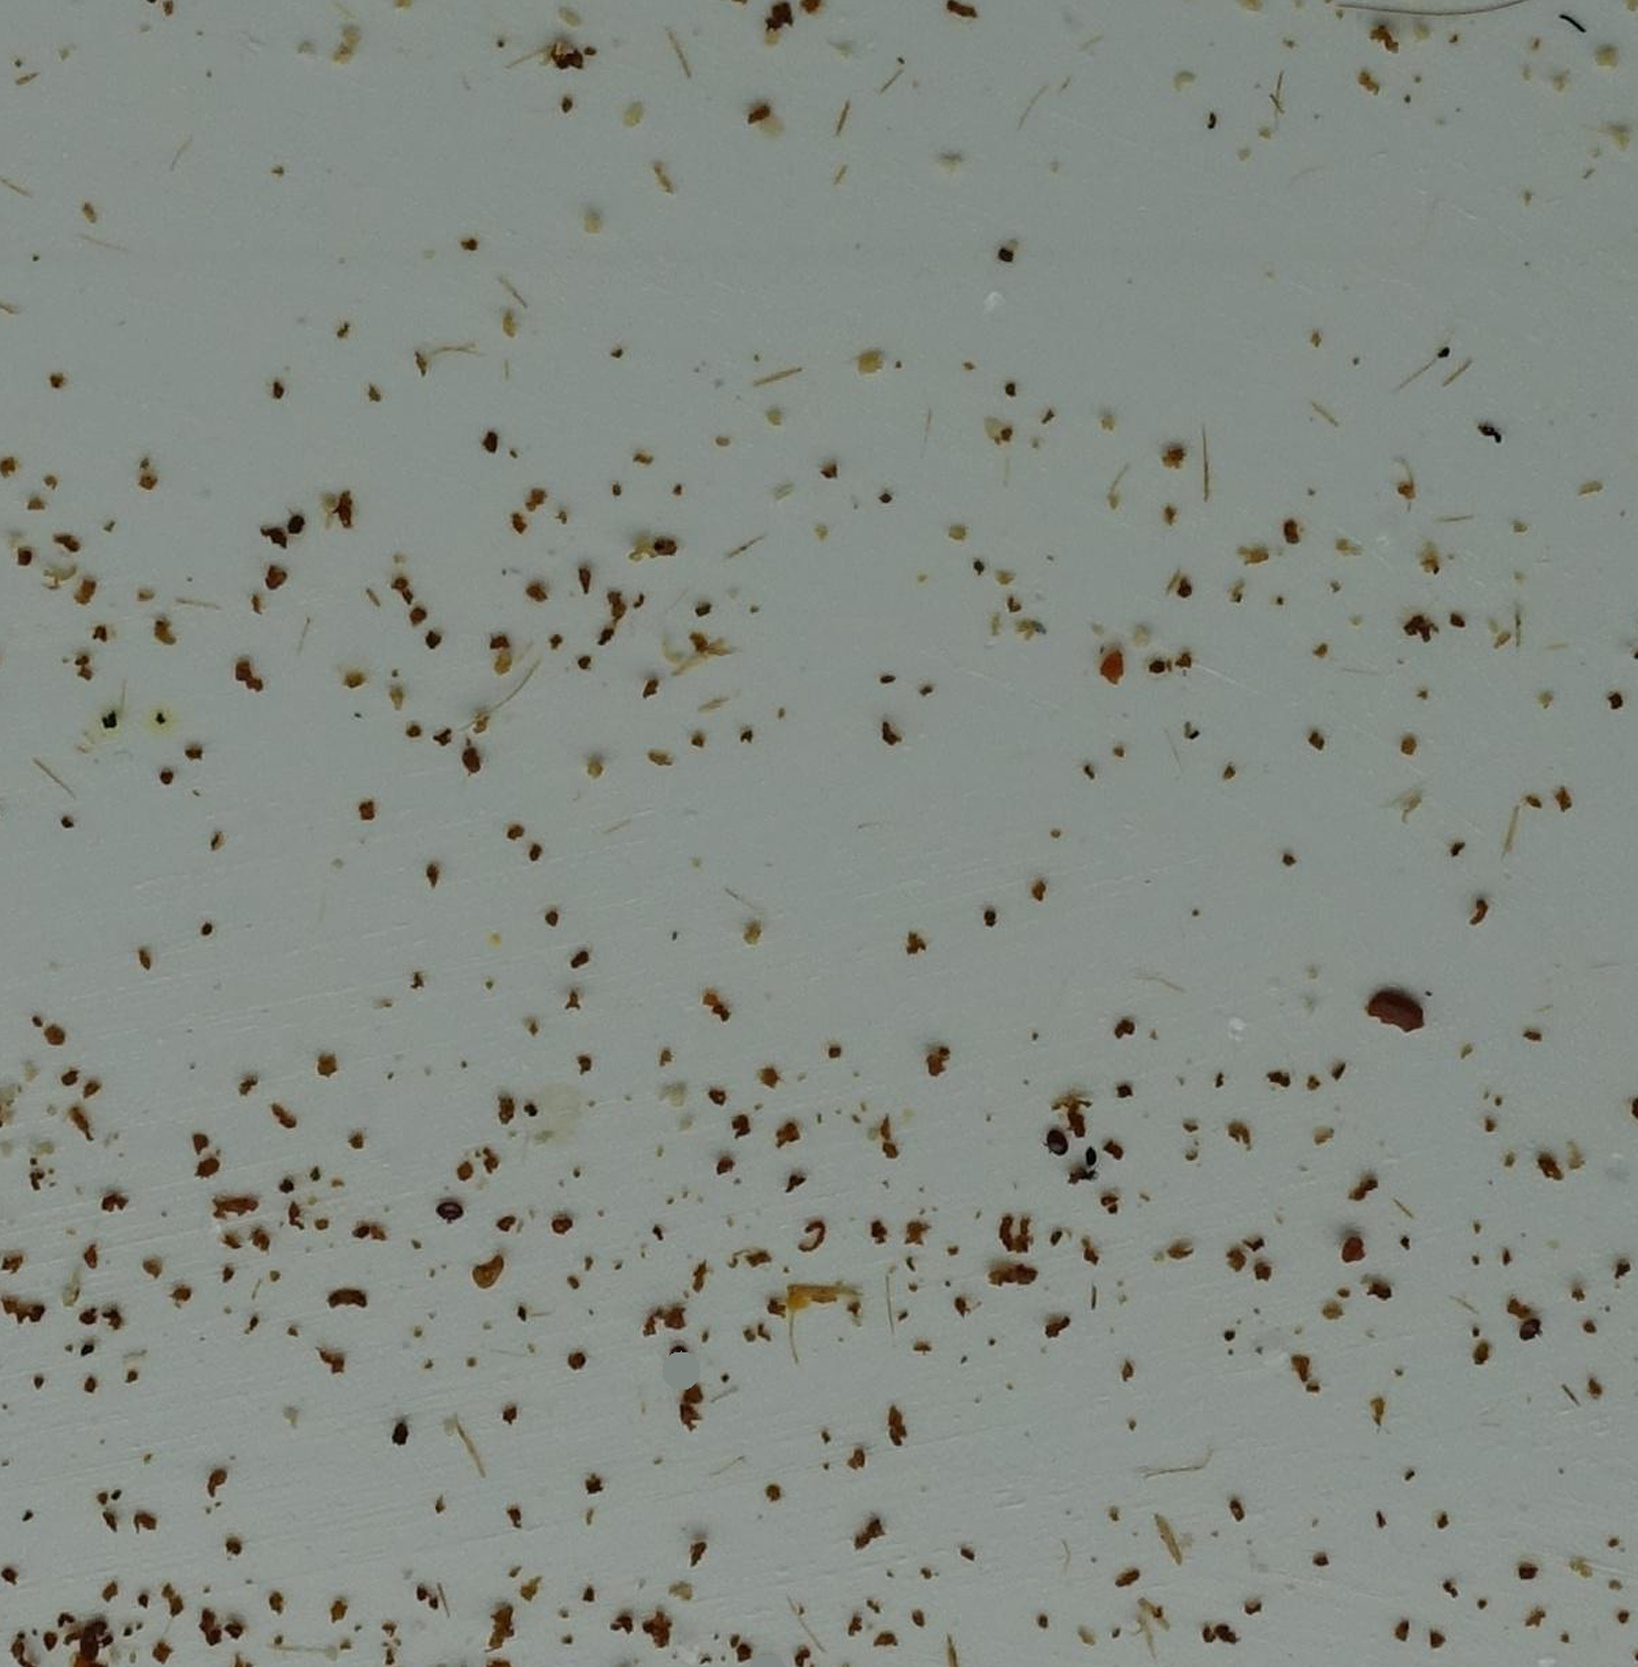Varroa: (75, 1632, 106, 1664), (436, 1197, 463, 1227), (1045, 1133, 1072, 1161), (1516, 1317, 1542, 1343), (658, 1344, 682, 1368)
